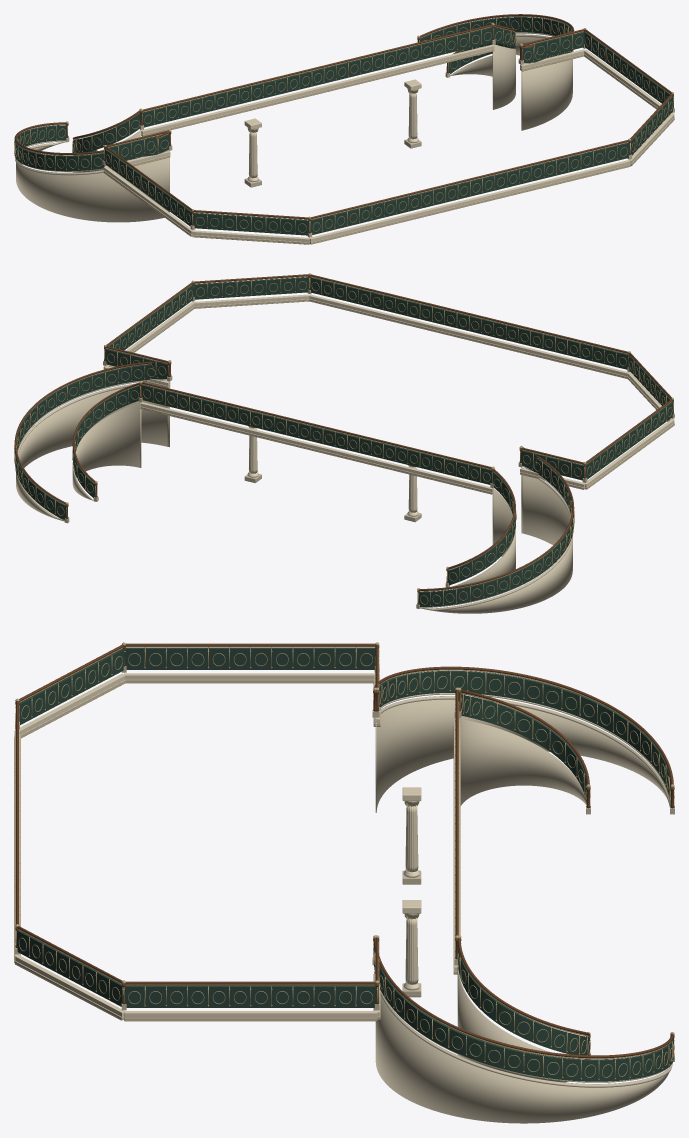
File: hotel-grand-stairs.glb
3 renders of one model, top to bottom at view 1: azimuth 30°, elevation 25°; view 2: azimuth 150°, elevation 25°; view 3: azimuth 270°, elevation 25°, orthographic. The views are drawn at different scales.
Visible parts, largest first — view 1: hotel-grand-stairs / Hotel forest enamel, hotel-grand-stairs / Hotel honed limestone, hotel-grand-stairs / Hotel satin champagne brass, hotel-grand-stairs / Hotel carved ivory, hotel-grand-stairs / Hotel satin walnut; view 2: hotel-grand-stairs / Hotel forest enamel, hotel-grand-stairs / Hotel honed limestone, hotel-grand-stairs / Hotel satin champagne brass, hotel-grand-stairs / Hotel carved ivory, hotel-grand-stairs / Hotel satin walnut; view 3: hotel-grand-stairs / Hotel honed limestone, hotel-grand-stairs / Hotel forest enamel, hotel-grand-stairs / Hotel satin champagne brass, hotel-grand-stairs / Hotel carved ivory, hotel-grand-stairs / Hotel satin walnut.
Part boxes in pixels (x1,y1,x2,y2): hotel-grand-stairs / Hotel forest enamel: (14, 17, 673, 235); hotel-grand-stairs / Hotel honed limestone: (15, 32, 674, 244); hotel-grand-stairs / Hotel satin champagne brass: (14, 16, 674, 244); hotel-grand-stairs / Hotel carved ivory: (103, 44, 674, 242); hotel-grand-stairs / Hotel satin walnut: (14, 14, 673, 233); hotel-grand-stairs / Hotel forest enamel: (14, 277, 673, 606); hotel-grand-stairs / Hotel honed limestone: (15, 289, 674, 613); hotel-grand-stairs / Hotel satin champagne brass: (14, 273, 674, 605); hotel-grand-stairs / Hotel carved ivory: (103, 294, 674, 516); hotel-grand-stairs / Hotel satin walnut: (14, 274, 673, 604); hotel-grand-stairs / Hotel honed limestone: (14, 665, 674, 1123); hotel-grand-stairs / Hotel forest enamel: (17, 648, 673, 1081); hotel-grand-stairs / Hotel satin champagne brass: (14, 642, 674, 1079); hotel-grand-stairs / Hotel carved ivory: (14, 673, 459, 1017); hotel-grand-stairs / Hotel satin walnut: (15, 643, 674, 1058).
Size of the model in its own units: 33.33 by 5.2 by 24.8.
Materials: 5 (1 with a texture image).
